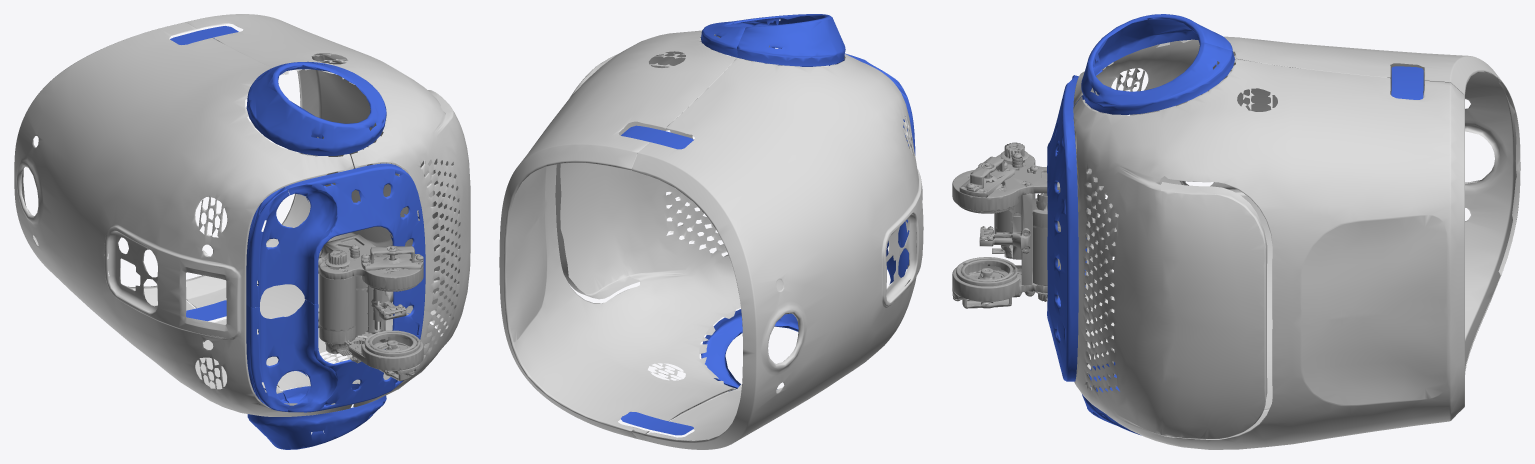
File: sim_ecub_1-1_chest.obj
3 views of the same model, side by side, from view 1: azimuth 30°, elevation 25°; view 2: azimuth 150°, elevation 25°; view 3: azimuth 270°, elevation 25° (orthographic). The views are drawn at different scales.
Size of the model in its own units: 237 by 253 by 319.
